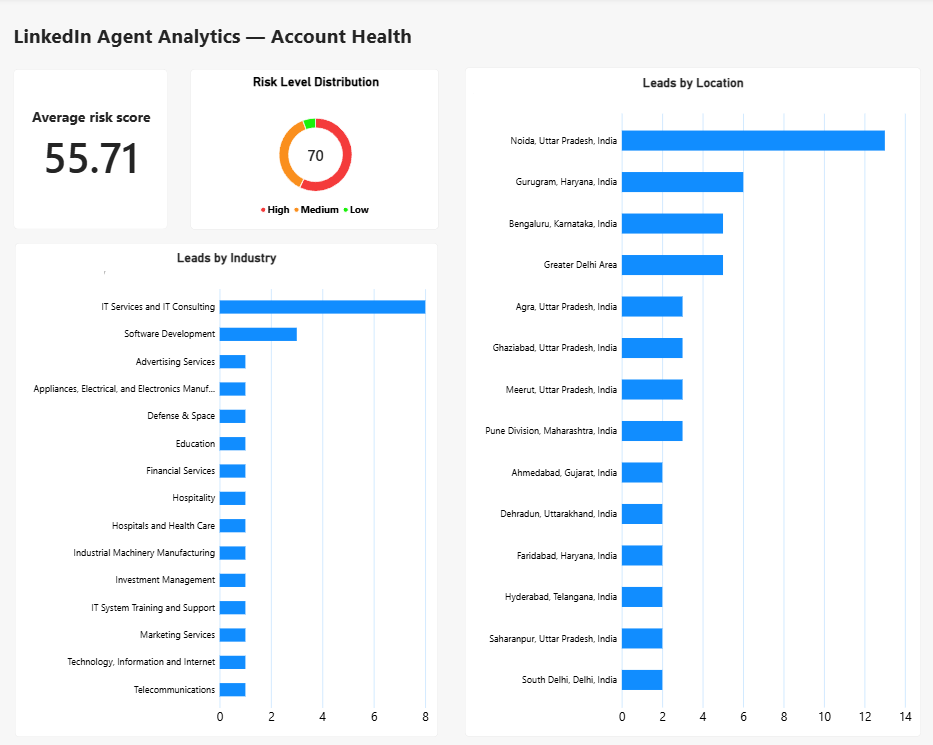

The dashboard page shown, as its layout file describes it:
{"tool":"powerbi","page":{"name":"Account Health","canvas":[1800,1450],"ordinal":1},"visuals":[{"type":"clusteredBarChart","title":"Leads by Industry","fields":{"Category":["public powerbi_lead_summary.industry"],"Y":["public powerbi_lead_summary.Total_leads"]},"box":[33.3,473.3,813.3,950],"z":0},{"type":"clusteredBarChart","title":"Leads by Location","fields":{"Category":["public powerbi_lead_summary.location"],"Y":["public powerbi_lead_summary.Total_leads"]},"box":[900,136.7,876.7,1286.7],"z":1000},{"type":"donutChart","title":"Risk Level Distribution","fields":{"Category":["public powerbi_lead_summary.risk_level"],"Y":["public powerbi_lead_summary.Total_leads"]},"box":[370.7,137.9,477.6,308.6],"z":2000},{"type":"cardVisual","fields":{"Data":["public powerbi_lead_summary.Average risk score"]},"box":[32.8,137.9,296.6,308.6],"z":3000},{"type":"textbox","box":[32.8,29.3,1406.9,94.8],"z":4000},{"type":"shape","box":[60.3,193.1,241.4,62.1],"z":5000},{"type":"textbox","box":[60.3,193.1,241.4,62.1],"z":6000},{"type":"shape","box":[387,178,179,30],"z":7000},{"type":"shape","box":[46.7,510,160,53.8],"z":8000},{"type":"shape","box":[45,925,172.5,55],"z":9000},{"type":"shape","box":[917.5,165,170,53.8],"z":10000}]}

Visuals, with their boxes in screenshot pixels (x1, y1, x2, y2), scaled from the page's 1800x1450 canvas onto the 933x745 screenshot:
"Leads by Industry" clusteredBarChart: {"x1": 17, "y1": 243, "x2": 439, "y2": 731}
"Leads by Location" clusteredBarChart: {"x1": 466, "y1": 70, "x2": 921, "y2": 731}
"Risk Level Distribution" donutChart: {"x1": 192, "y1": 71, "x2": 440, "y2": 229}
cardVisual - public powerbi_lead_summary.Average risk score: {"x1": 17, "y1": 71, "x2": 171, "y2": 229}
textbox: {"x1": 17, "y1": 15, "x2": 746, "y2": 64}
shape: {"x1": 31, "y1": 99, "x2": 156, "y2": 131}
textbox: {"x1": 31, "y1": 99, "x2": 156, "y2": 131}
shape: {"x1": 201, "y1": 91, "x2": 293, "y2": 107}
shape: {"x1": 24, "y1": 262, "x2": 107, "y2": 290}
shape: {"x1": 23, "y1": 475, "x2": 113, "y2": 504}
shape: {"x1": 476, "y1": 85, "x2": 564, "y2": 112}
